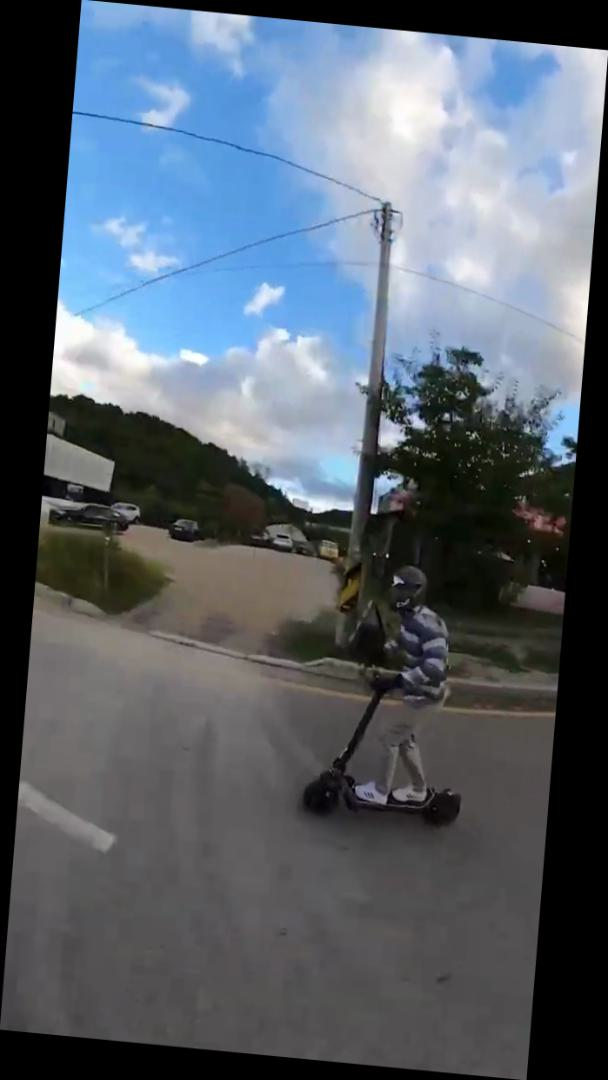helmet: (295, 556, 482, 830)
